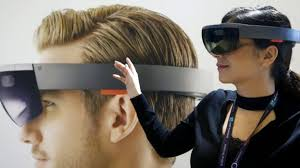hololens: (3, 62, 219, 129), (202, 23, 298, 55)
